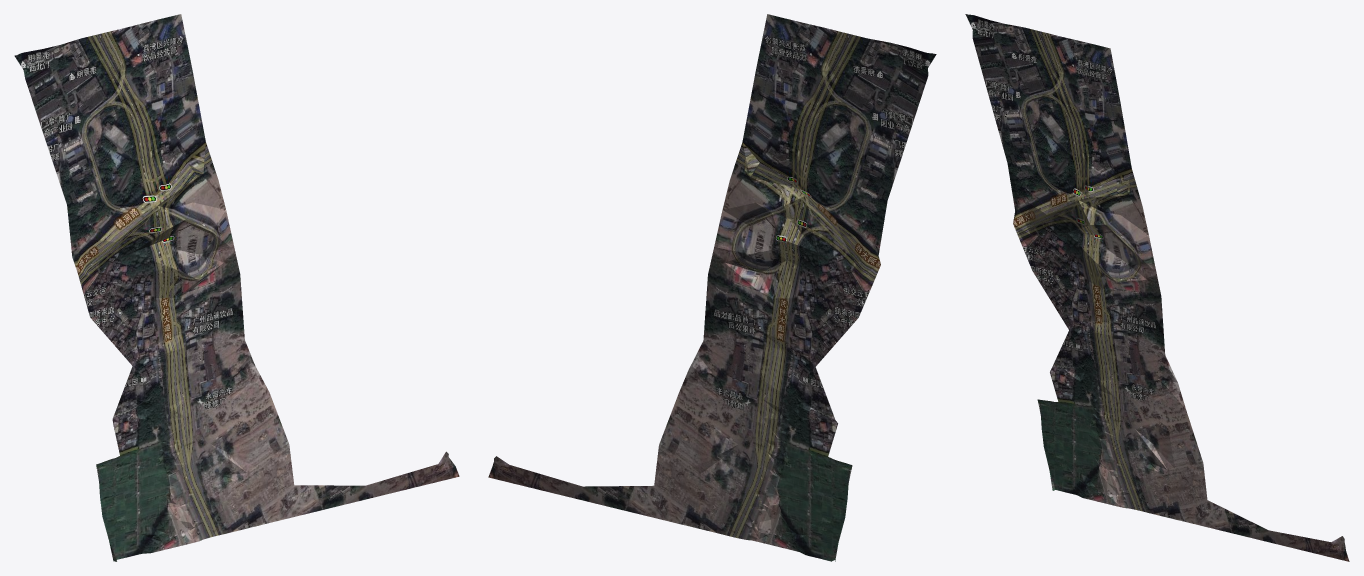
The picture shows the model from 3 angles, left to right: view 1: azimuth 30°, elevation 25°; view 2: azimuth 150°, elevation 25°; view 3: azimuth 330°, elevation 25°; orthographic projection. The views are drawn at different scales.
Visible parts, largest first — view 1: 0_3_3_1_1; view 2: 0_3_3_1_1; view 3: 0_3_3_1_1.
Part boxes in pixels (x1,y1,x2,y2): 0_3_3_1_1: (14, 14, 459, 561); 0_3_3_1_1: (488, 14, 936, 561); 0_3_3_1_1: (965, 14, 1349, 561).
Bounding box in the file's own units: 856 × 972 × 33.49.
Materials: 1 (1 with a texture image).
